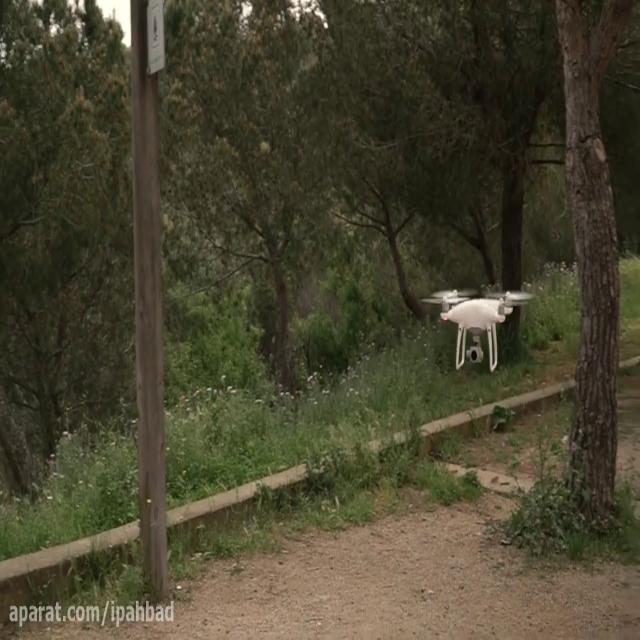drone: (417, 286, 537, 372)
